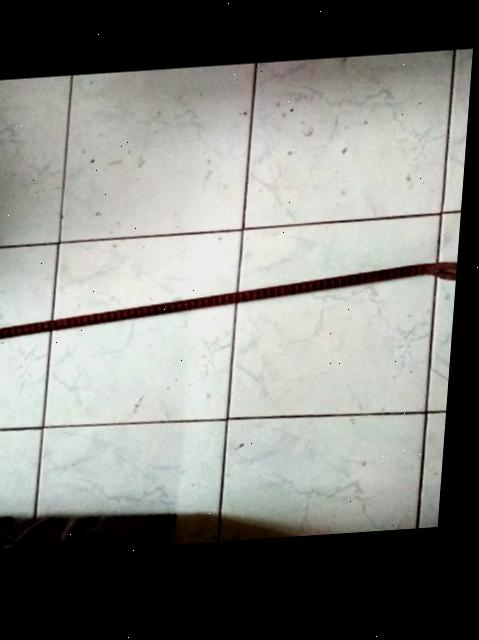crow bar: (0, 264, 461, 346)
